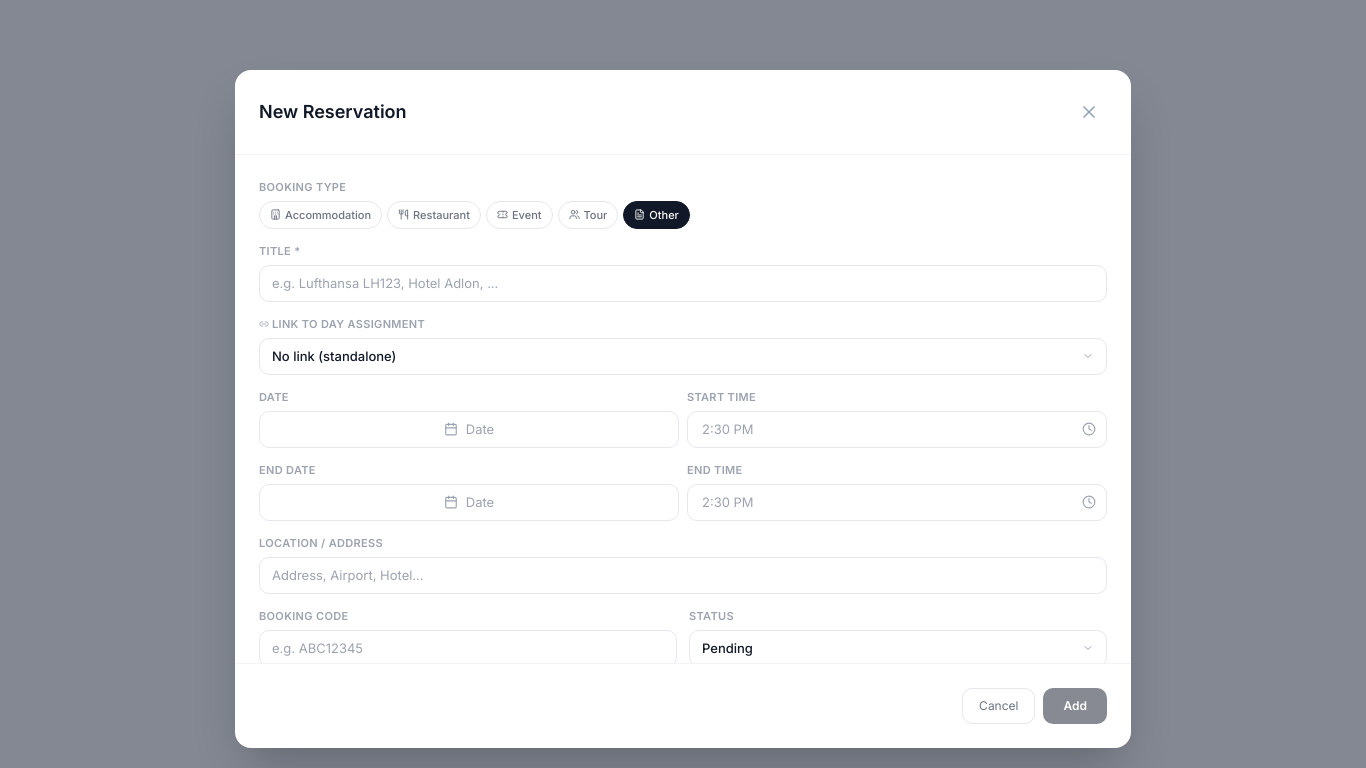
Test: ReservationModal › FE-PLANNER-RESMODAL-010: hotel type hides assignment picker
The image size is (1366, 768).
# Switch to hotel type
Click the button "Accommodation".
click(321, 215)  # box [259, 200, 382, 229]
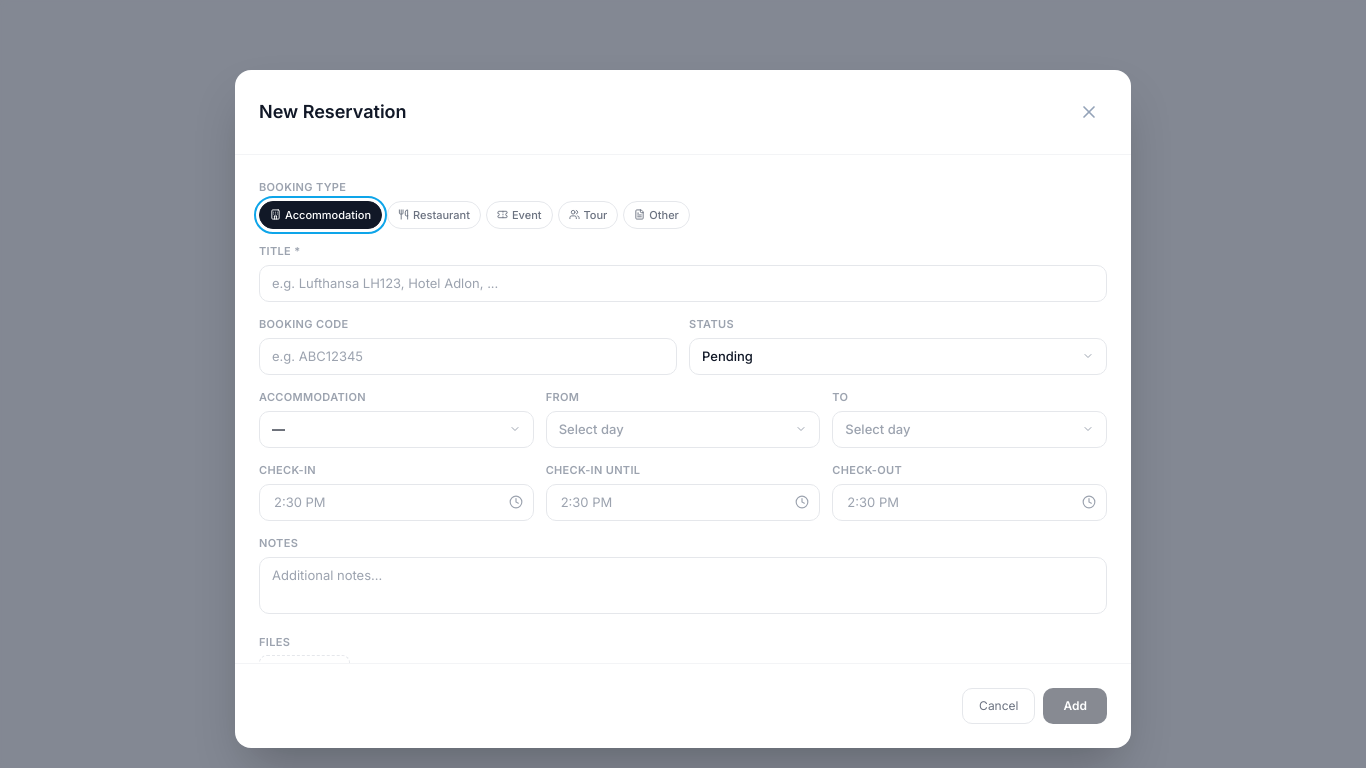
Expected: the text "Link to day assignment" is gone
